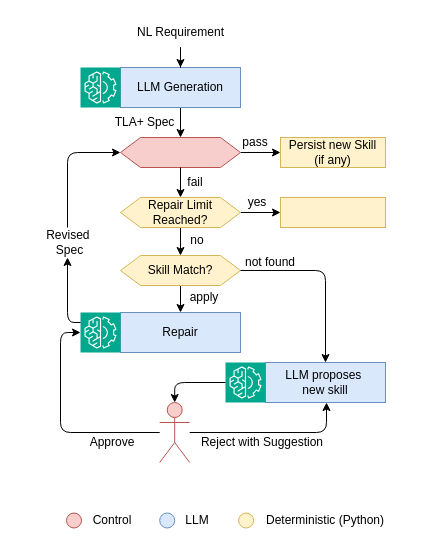
Some shapes in this 437 by 552 pixel diagram are drawn without their labels. The shapes that lost their labels are listed below. From the top down, each one's box as (x1, y1, x2, y2) in pixels, then its label:
(120, 136, 240, 168): TLC Verify
(280, 196, 386, 228): Persist Failure Disgard Failed Skill
(159, 402, 190, 462): Knowledge Engineer
